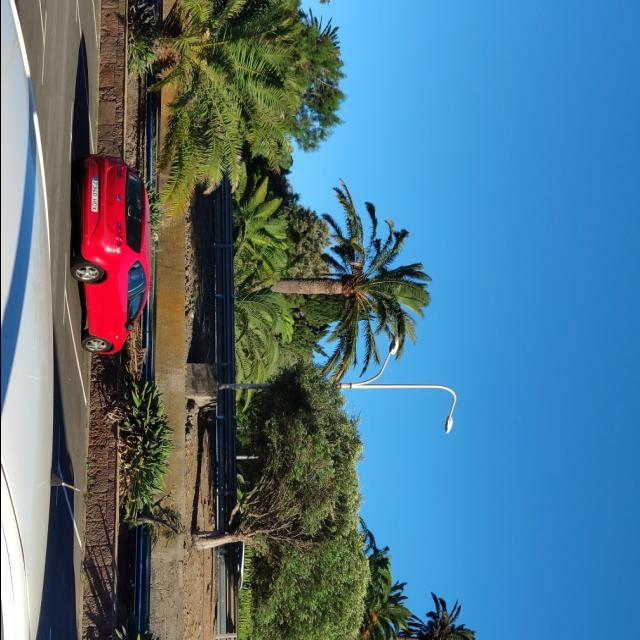Palm-Trees: (129, 0, 307, 218), (288, 180, 436, 378)
